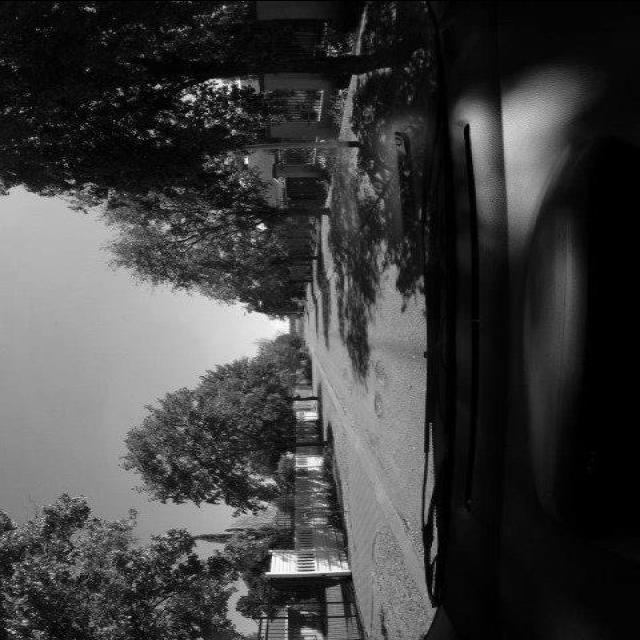lubang: (367, 360, 393, 387), (366, 394, 384, 421)
